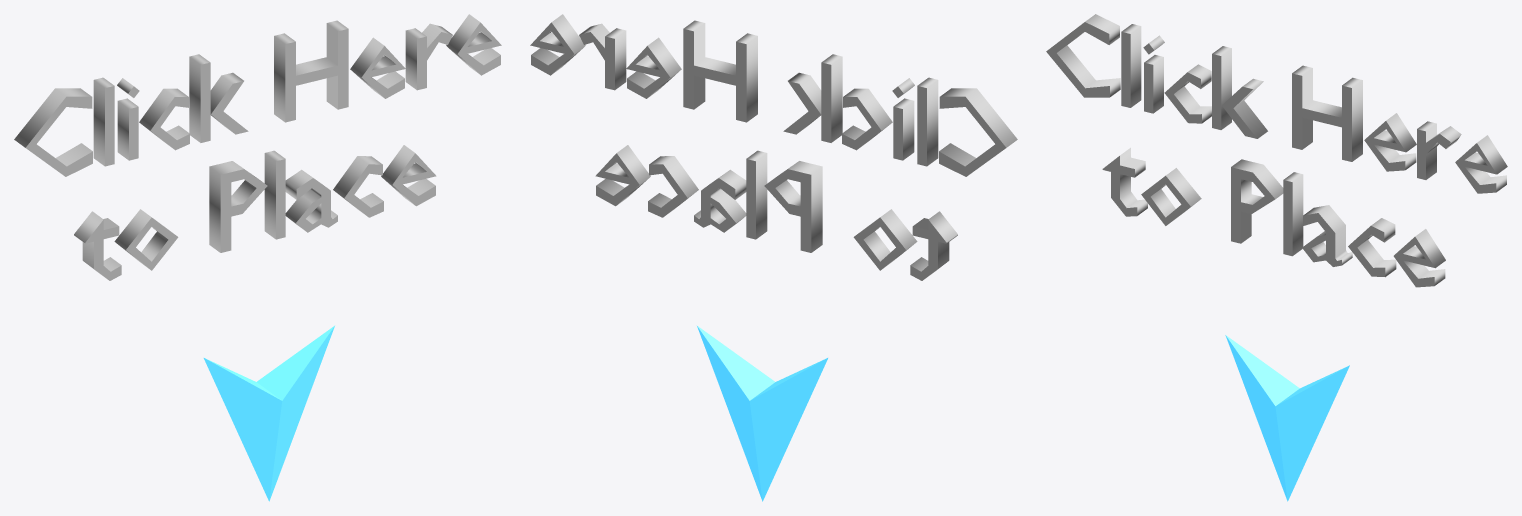
Rendered from reticle1.gltf.
The picture shows the model from 3 angles, left to right: view 1: azimuth 30°, elevation 25°; view 2: azimuth 150°, elevation 25°; view 3: azimuth 330°, elevation 25°; orthographic projection. The views are drawn at different scales.
Visible parts, largest first — view 1: Text, arrow_model; view 2: Text, arrow_model; view 3: Text, arrow_model.
Boxes of the visible parts, x1=… form: Text: x1=14, y1=14, x2=501, y2=280; arrow_model: x1=203, y1=325, x2=334, y2=501; Text: x1=530, y1=14, x2=1017, y2=280; arrow_model: x1=697, y1=326, x2=827, y2=501; Text: x1=1046, y1=14, x2=1507, y2=287; arrow_model: x1=1225, y1=335, x2=1349, y2=501.
Size of the model in its own units: 1.86 by 1.71 by 0.1748.
